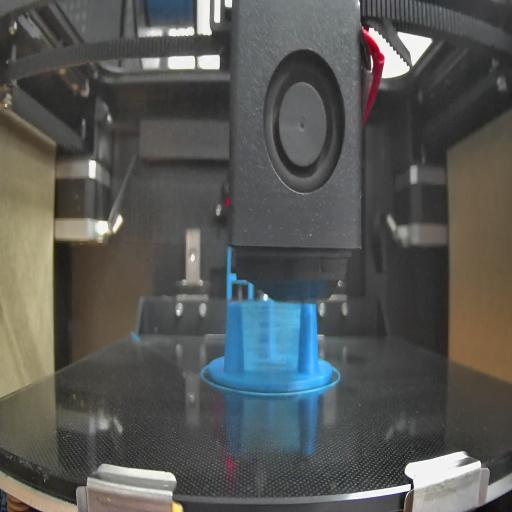stringing: (242, 304, 304, 374)
